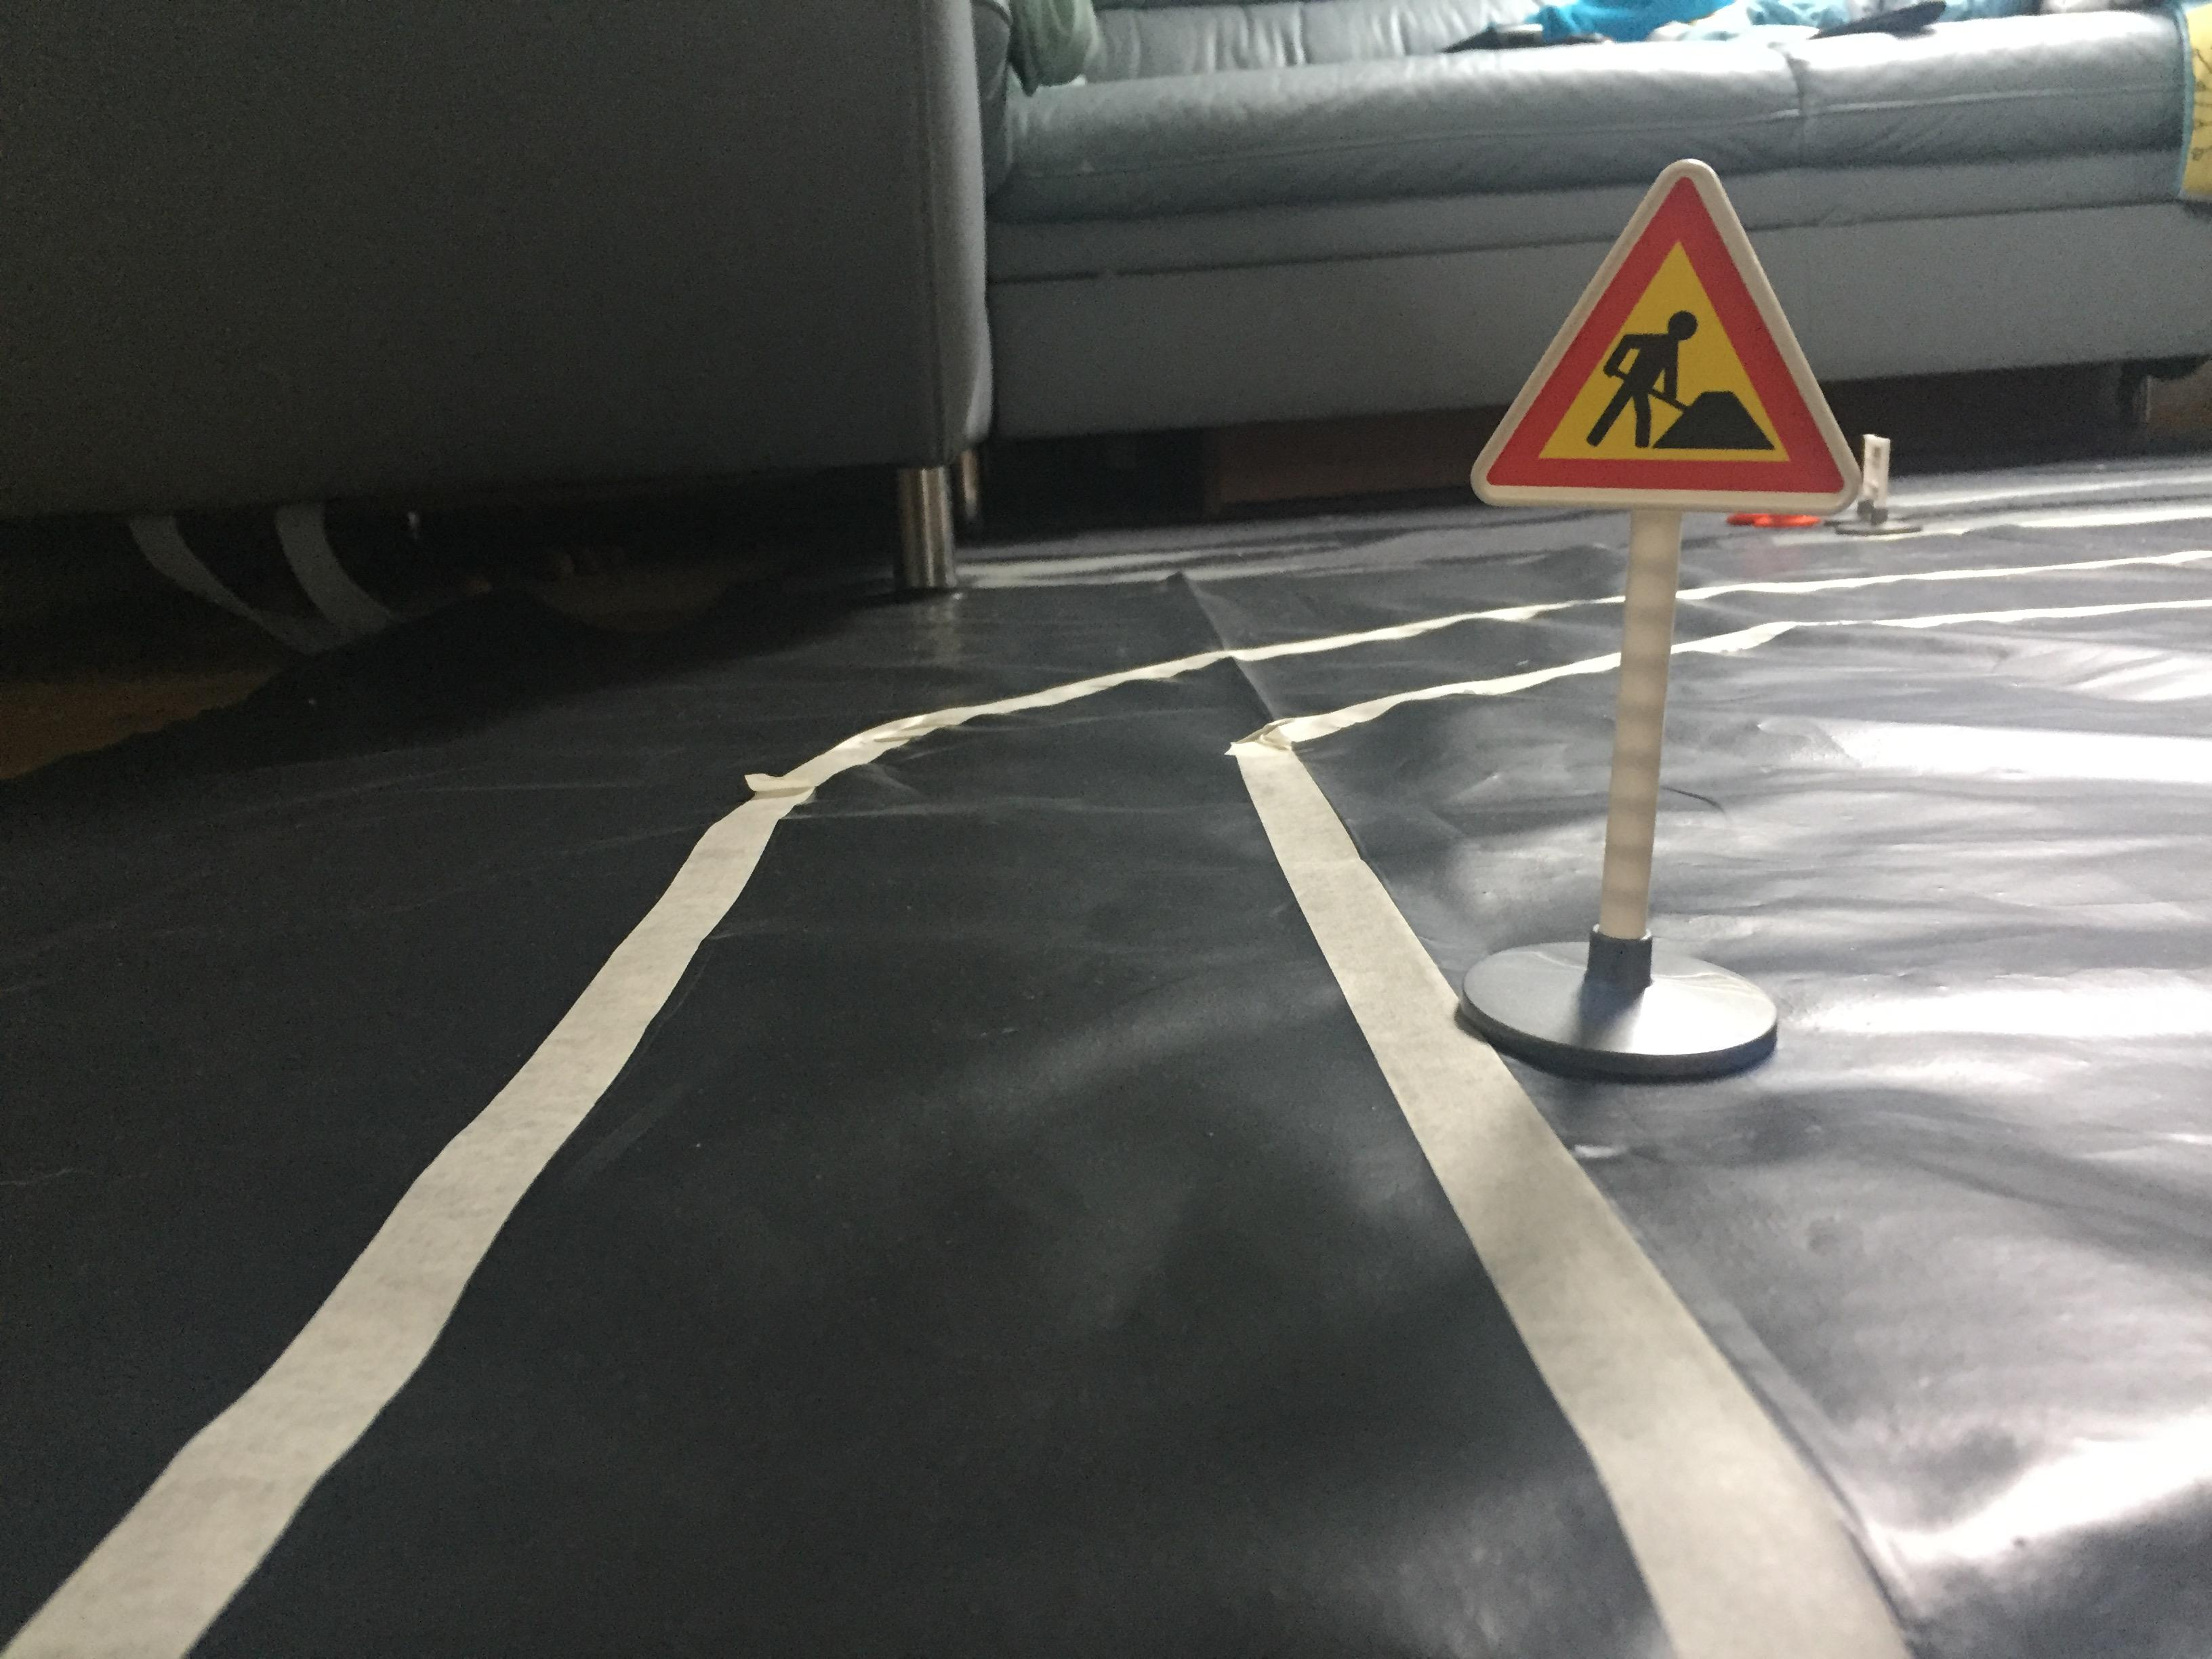work: (1456, 153, 1874, 528)
